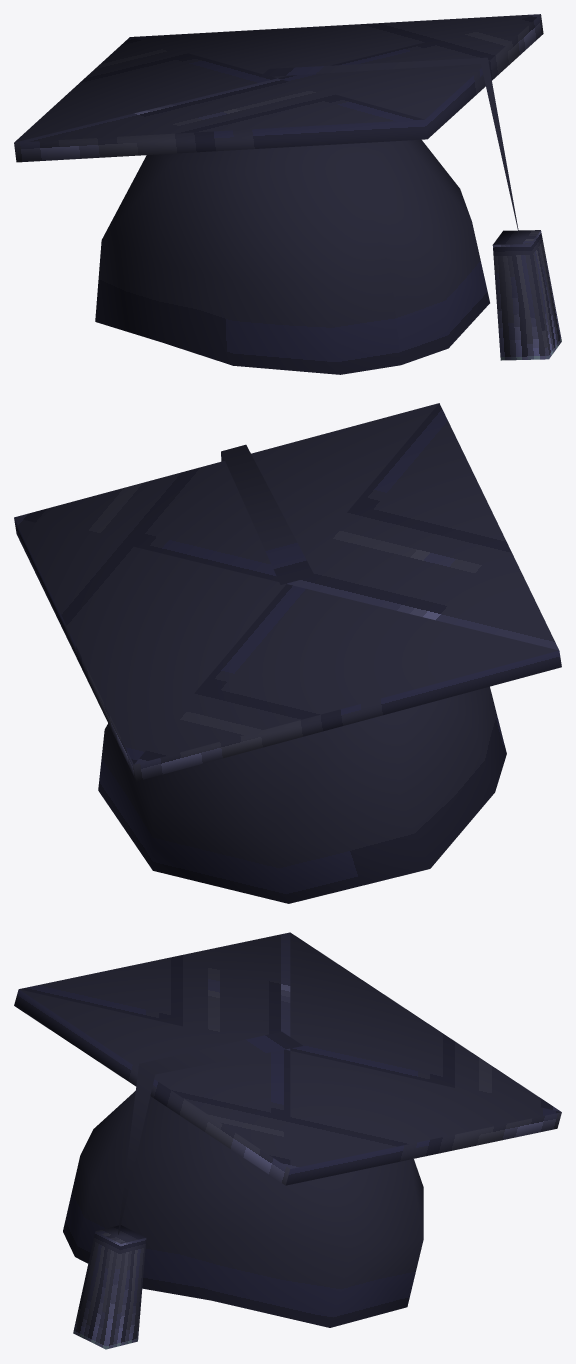
The picture shows the model from 3 angles, top to bottom: view 1: azimuth 30°, elevation 25°; view 2: azimuth 150°, elevation 25°; view 3: azimuth 270°, elevation 25°; orthographic projection. The views are drawn at different scales.
Parts seen in each view (by area): view 1: code_head31; view 2: code_head31; view 3: code_head31.
Boxes of the visible parts, x1=… form: code_head31: x1=14, y1=14, x2=561, y2=374; code_head31: x1=14, y1=403, x2=561, y2=903; code_head31: x1=14, y1=932, x2=561, y2=1349.
Bounding box in the file's own units: 1.01 × 0.5747 × 0.9893.
1 material, 1 textured.
